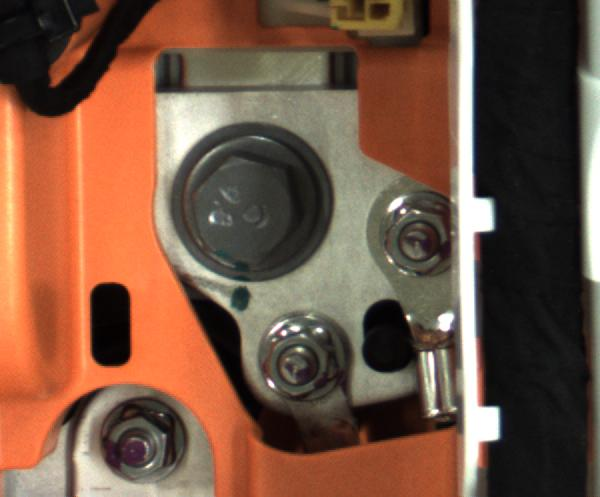nut_b: (162, 112, 334, 269)
screw_s: (96, 402, 183, 489), (259, 324, 349, 404), (376, 197, 457, 272)
